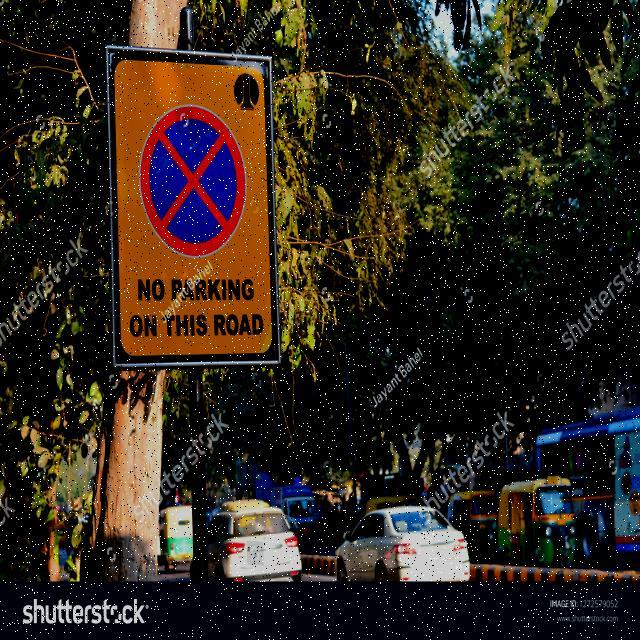Traffic sign: (99, 38, 287, 372)
